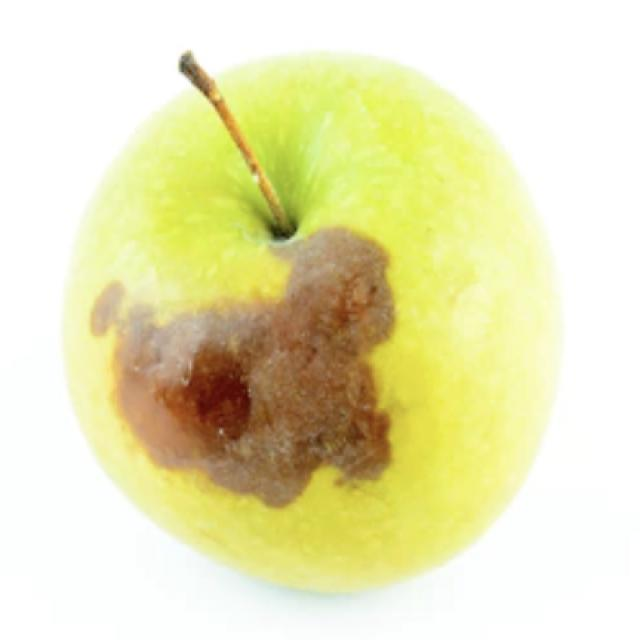Rotten: (92, 60, 535, 572)
